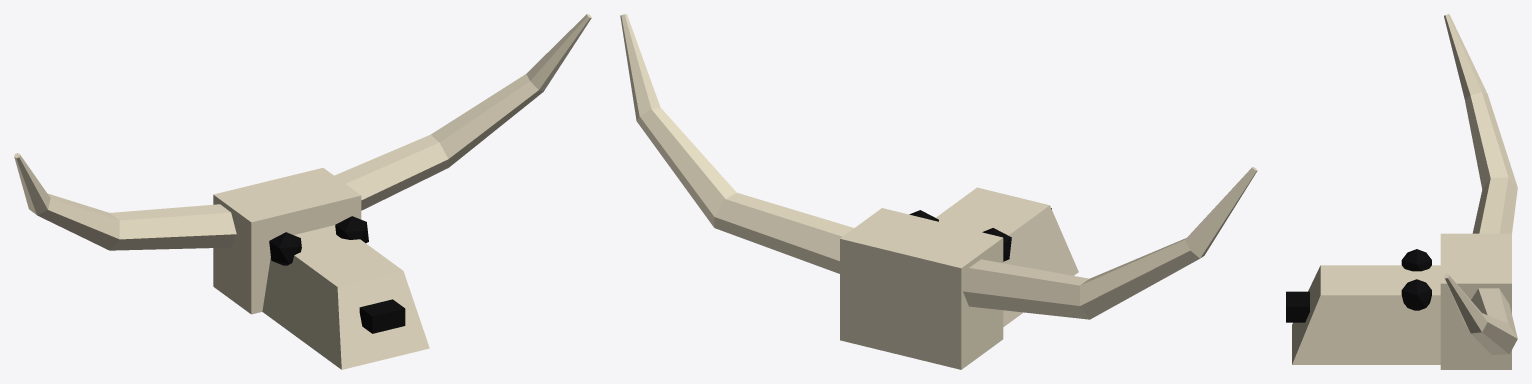
File: SM_Cattle_Skull.obj
The picture shows the model from 3 angles, left to right: view 1: azimuth 30°, elevation 25°; view 2: azimuth 150°, elevation 25°; view 3: azimuth 270°, elevation 25°; orthographic projection. The views are drawn at different scales.
Parts seen in each view (by area): view 1: SM_Cattle_Skull; view 2: SM_Cattle_Skull; view 3: SM_Cattle_Skull.
Part boxes in pixels (box(x1,y1,x2,y2)): SM_Cattle_Skull: box(14, 14, 591, 369); SM_Cattle_Skull: box(620, 14, 1257, 369); SM_Cattle_Skull: box(1286, 14, 1517, 369).
Size of the model in its own units: 1.05 by 0.3729 by 0.3899.
